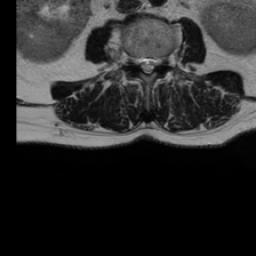CCS_stenosis: (144, 50, 151, 79)
LFS_normal: (158, 47, 167, 71)
LLS_normal: (151, 52, 158, 76)
RFS_normal: (130, 47, 137, 75)
RLS_normal: (137, 51, 144, 75)
